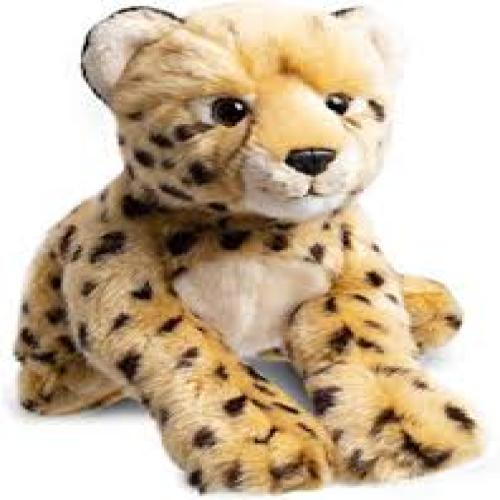cheetah-endangered: (17, 6, 480, 493)
